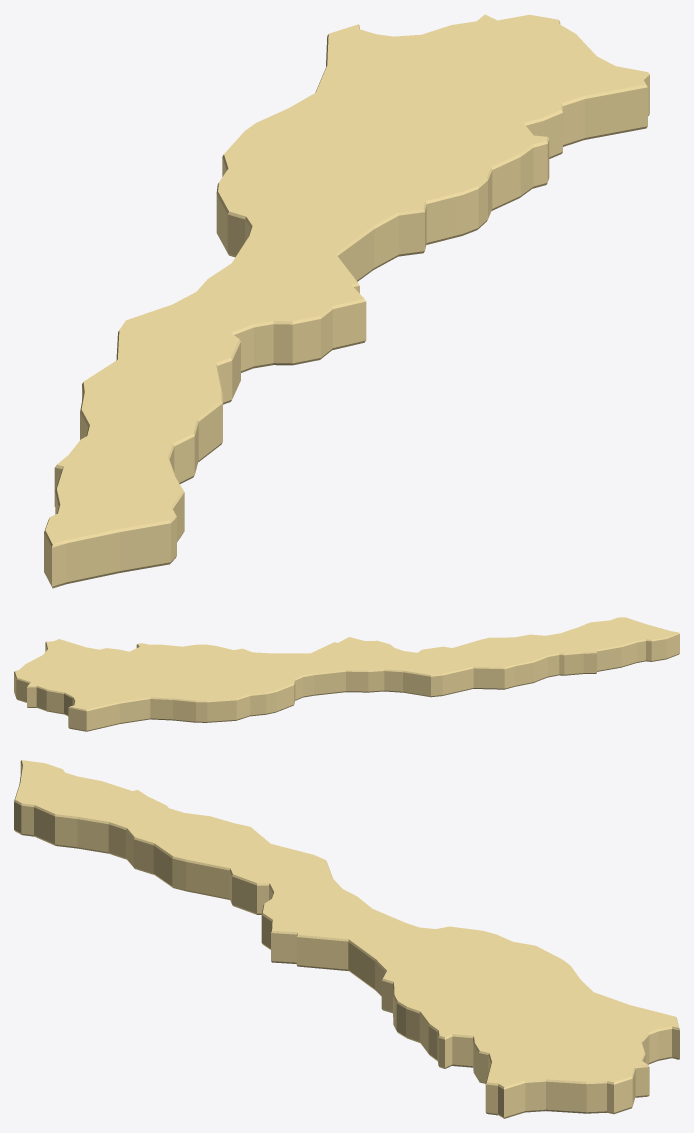
File: MAR.glb
3 views of the same model, one above another, from view 1: azimuth 30°, elevation 25°; view 2: azimuth 150°, elevation 25°; view 3: azimuth 270°, elevation 25° (orthographic). The views are drawn at different scales.
Size of the model in its own units: 1.5 by 0.068 by 1.29.
